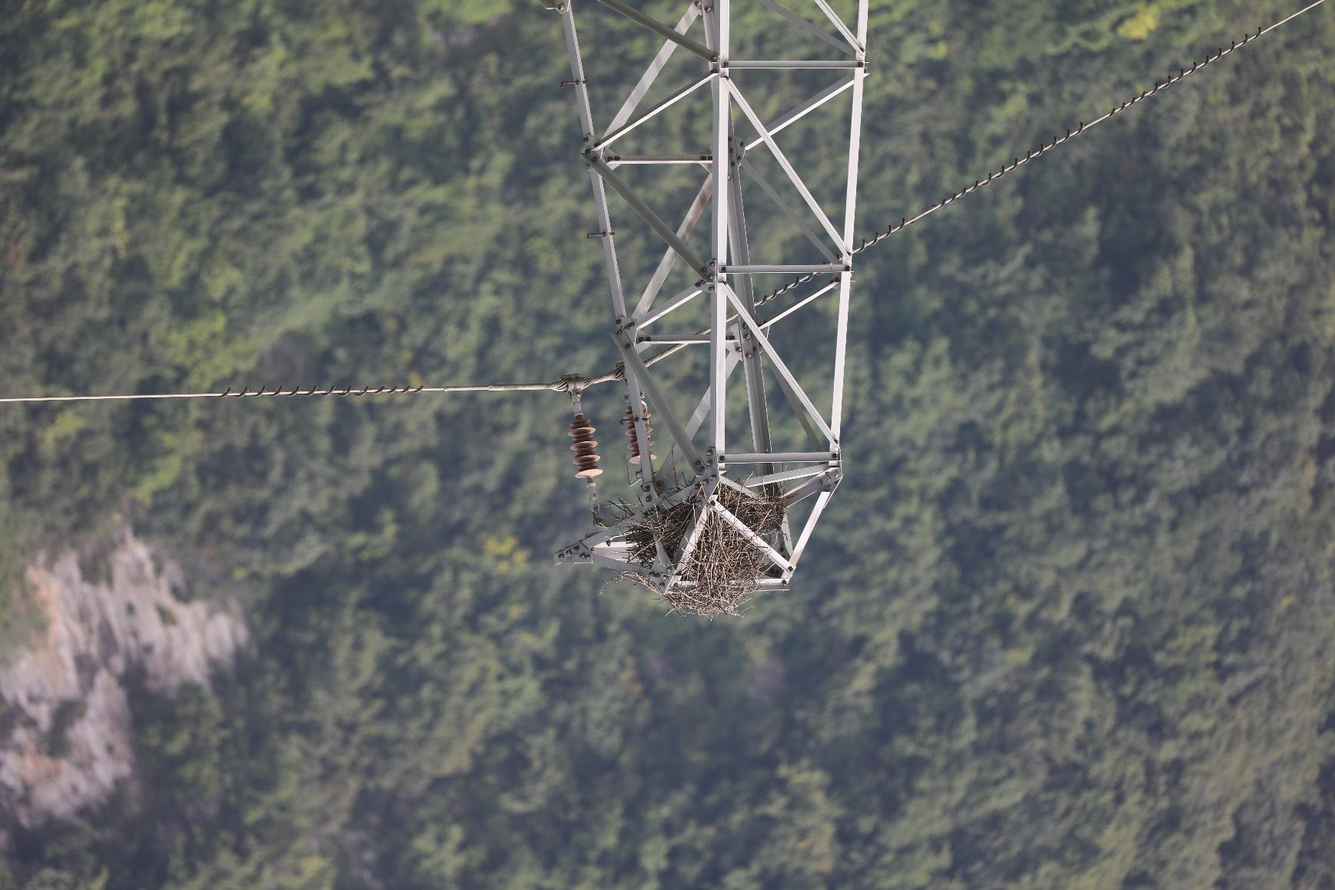nest: (611, 480, 789, 619)
